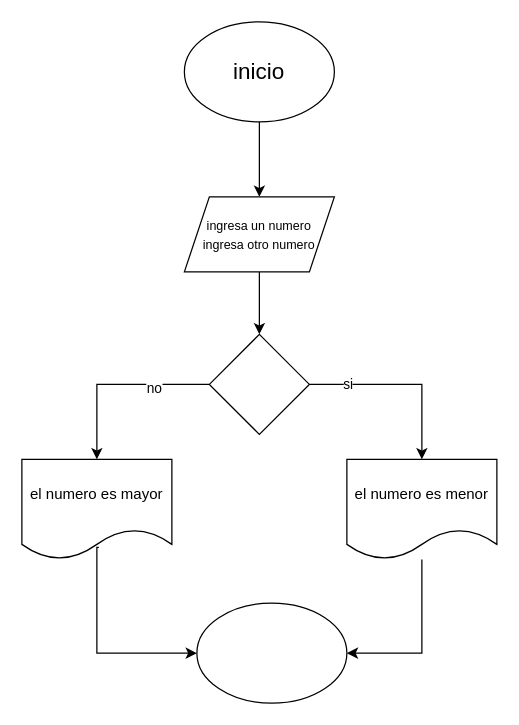
The diagram is 519 pixels wide and 725 high, and some of its shapes have lost their labels. The box of each missing label's shape, as (x1, y1, x2, y2) in pixels:
fin: (196, 602, 347, 703)
num1<num2 num1>num2: (208, 333, 309, 434)
